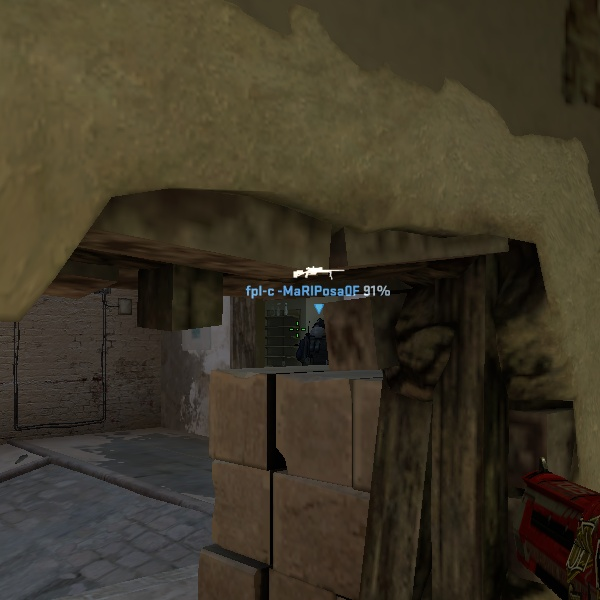ct_body: (294, 311, 333, 364)
